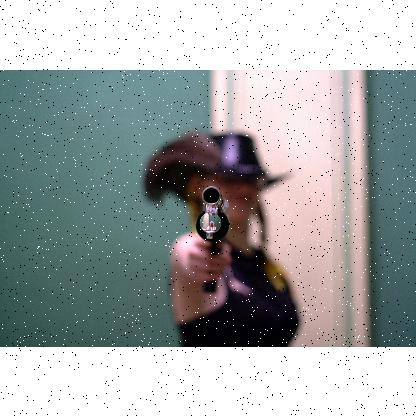gun: (194, 184, 232, 291), (196, 184, 230, 290)
